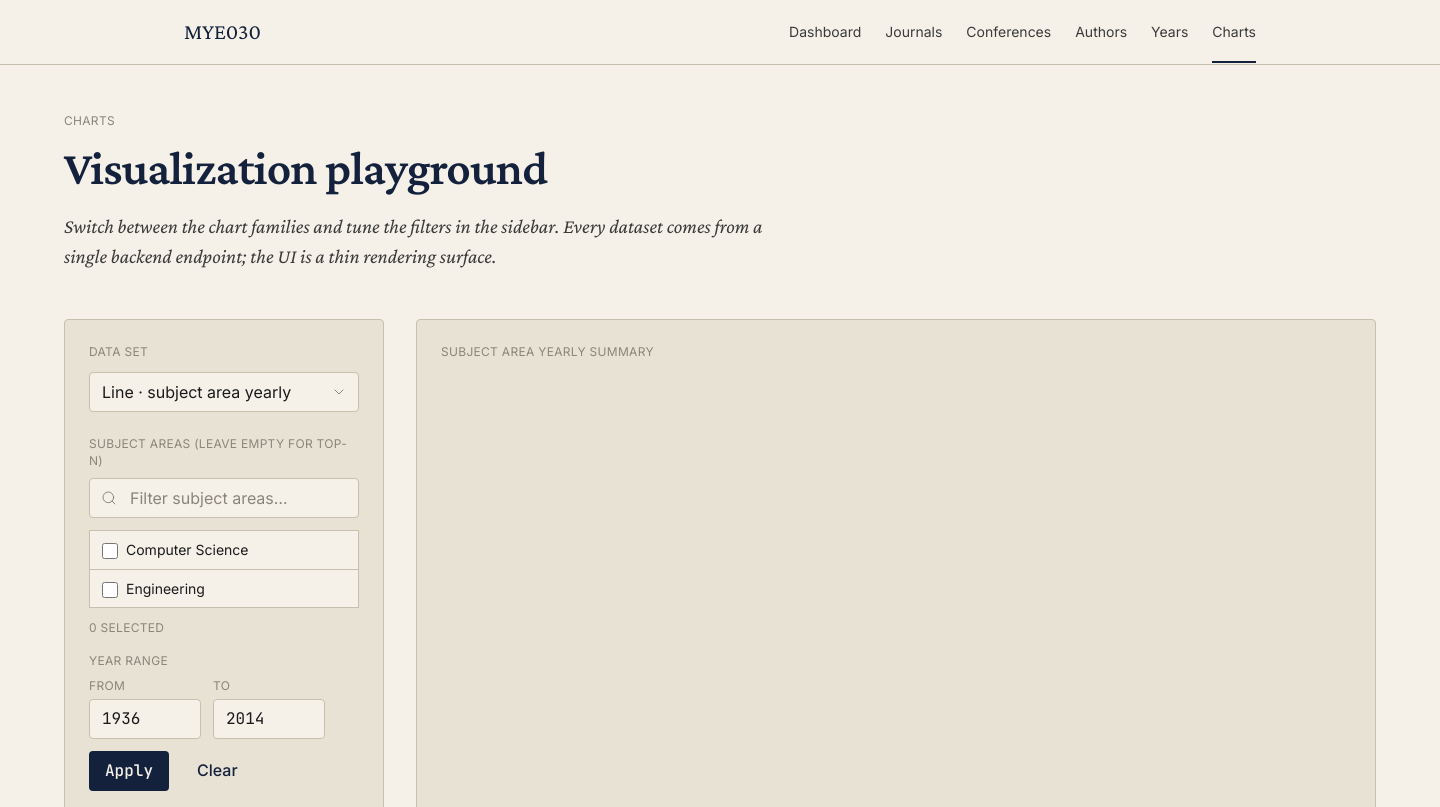
Scenario: /charts playground › switches to the authors vs articles scatter
The width and height of the screenshot is (1440, 807).
Step 1. Select "Scatter · authors vs articles" in the dropdown named "chart type" → (224, 392), box [89,372,359,412]
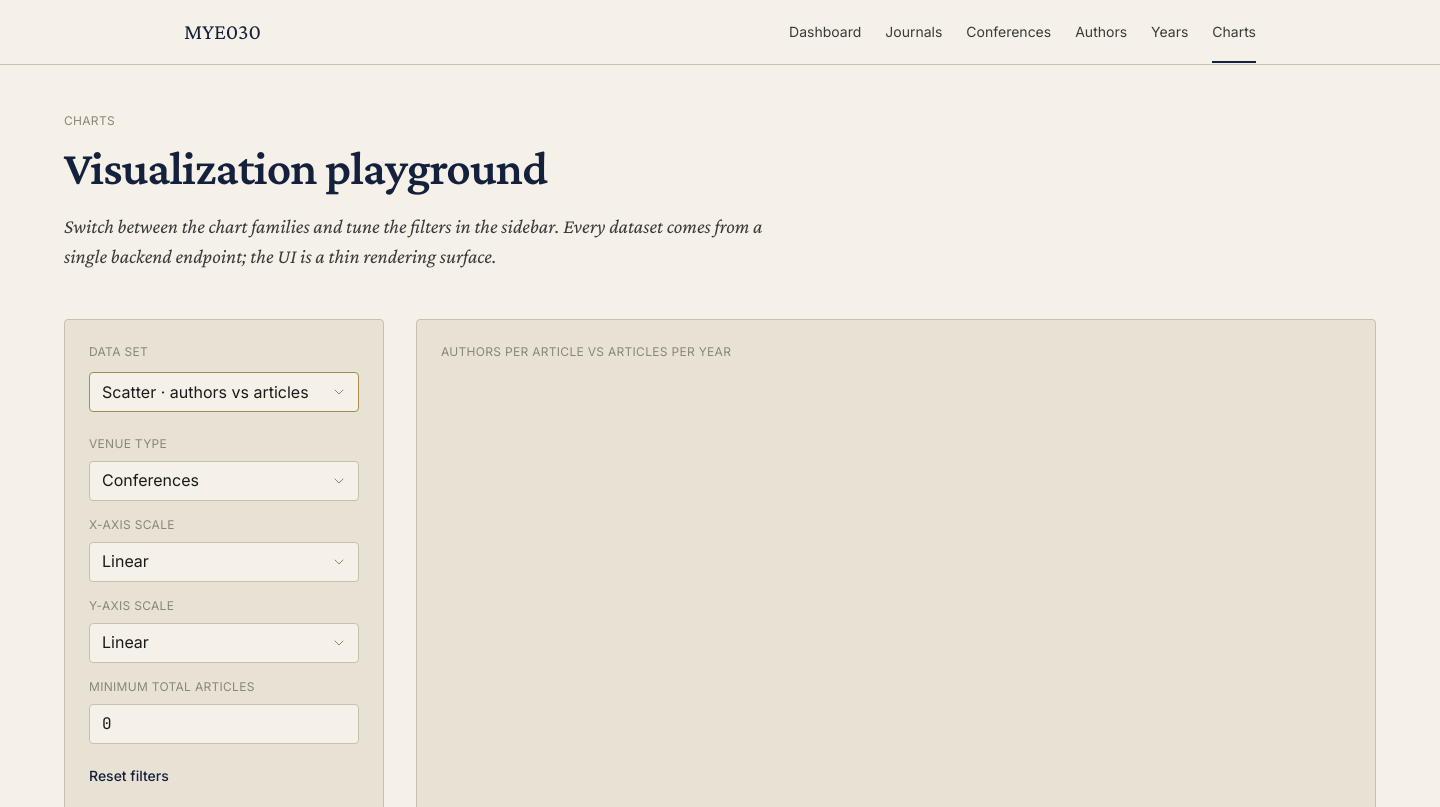
Check: the text "Authors per article vs articles per year" is shown, box [441,344,731,360]
